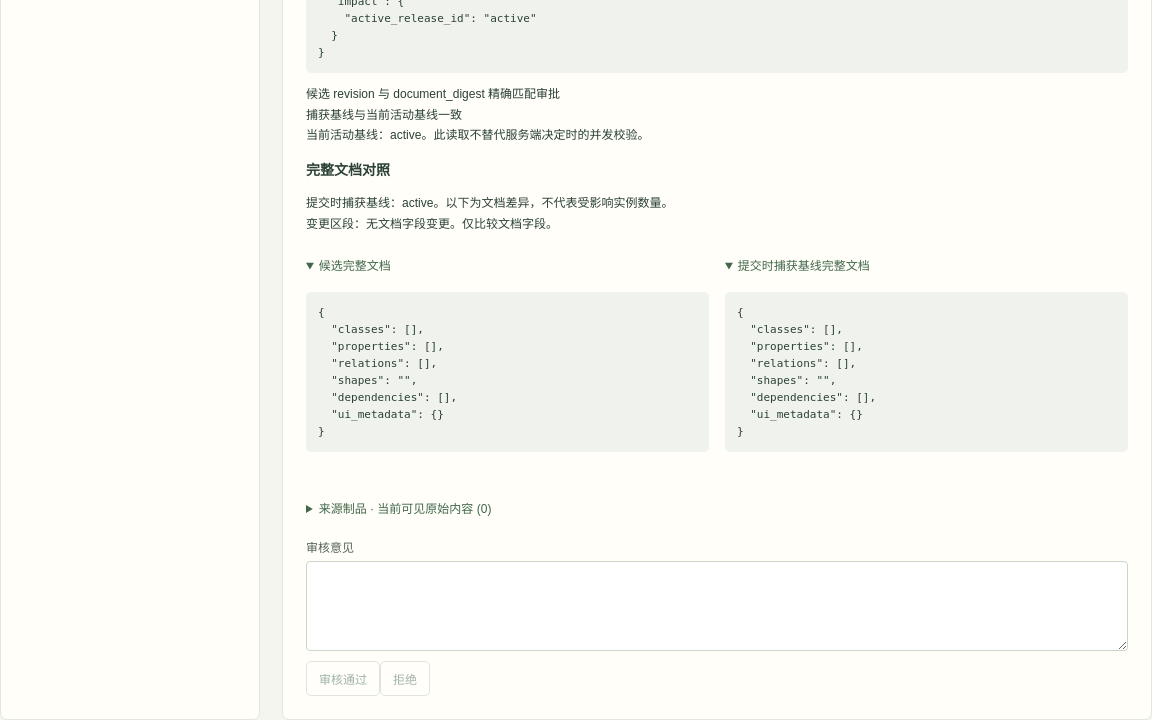
Test: allows an exact candidate when a visible captured release is still current
(page scrolled)
Expected: the heading "完整文档对照" is shown, 306,162 -> 390,178
Type "Reviewed exact candidate" into the text box labelled "审核意见" at point(717, 606), box 306,561 -> 1128,651
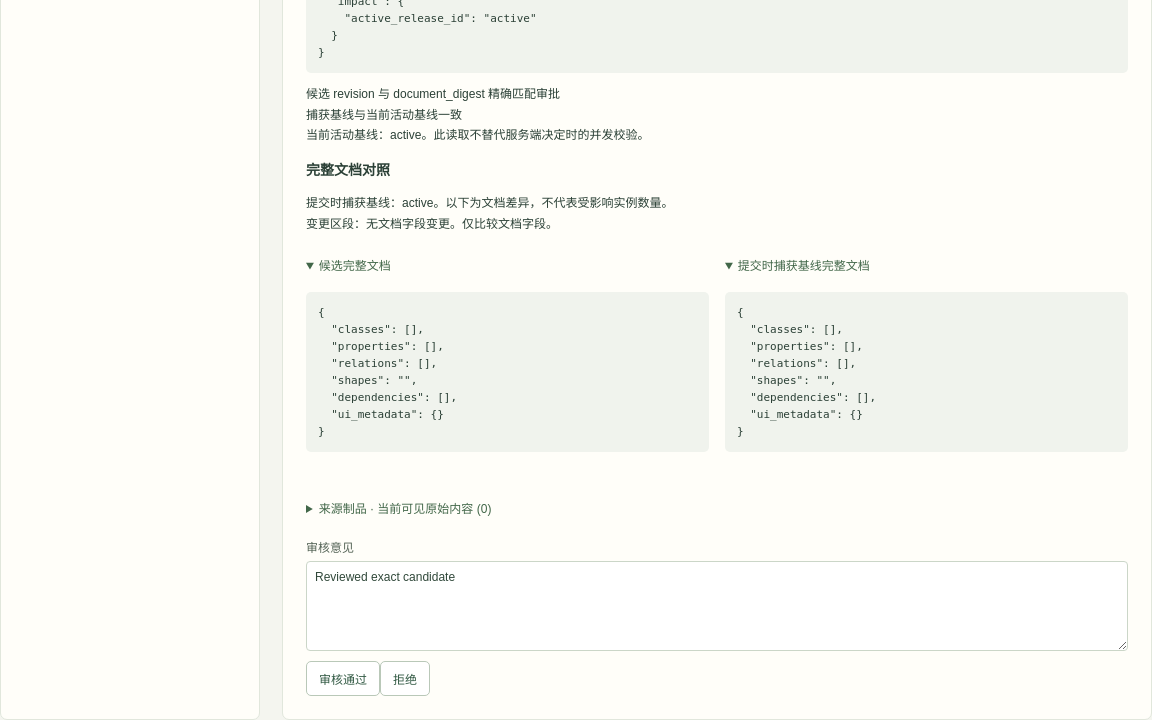
Expected: the text "提交时捕获基线：active。以下为文档差异，不代表受影响实例数量。" is shown, 306,196 -> 673,210
Expected: the button "审核通过" is enabled, 306,661 -> 380,696
